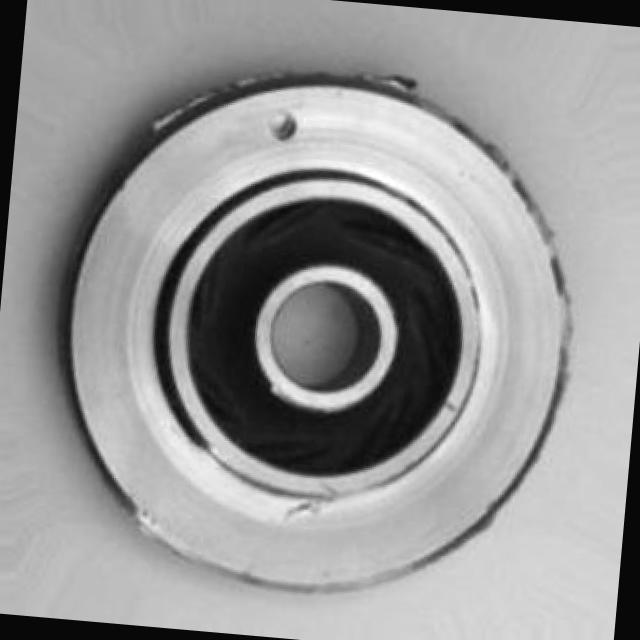Defect: (266, 108, 300, 140)
